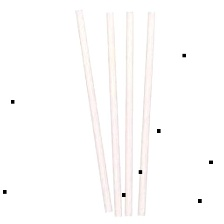drinking_straw: (70, 5, 115, 216), (99, 8, 125, 220), (134, 7, 159, 220)
